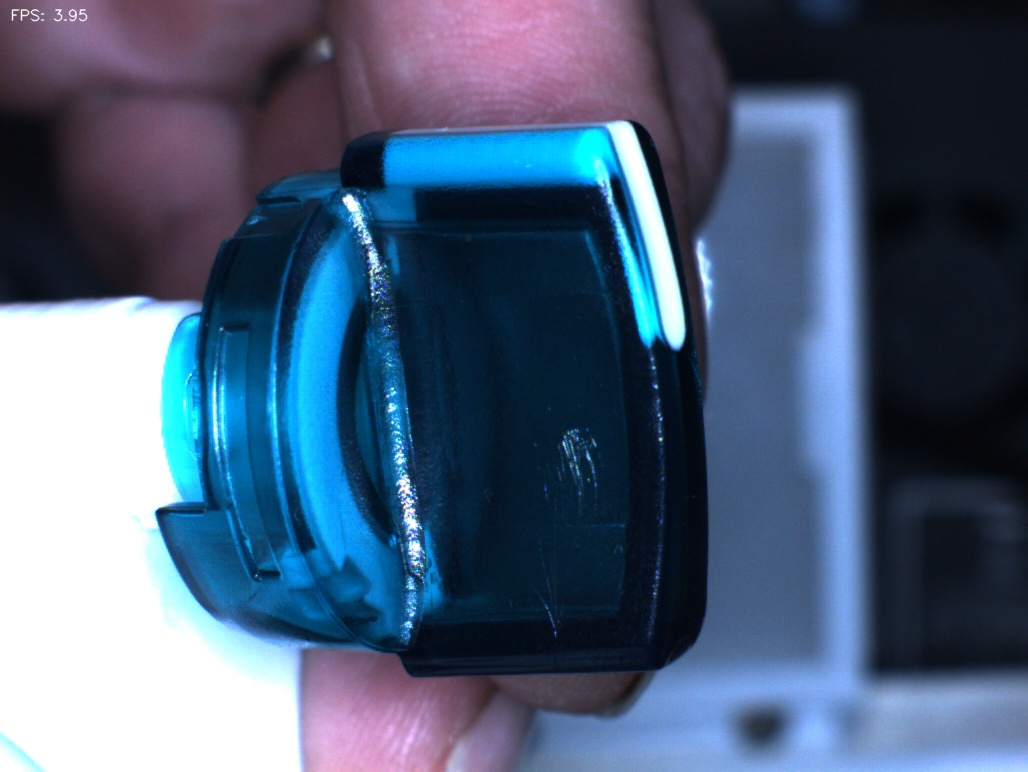Givrage: (509, 412, 616, 647)
